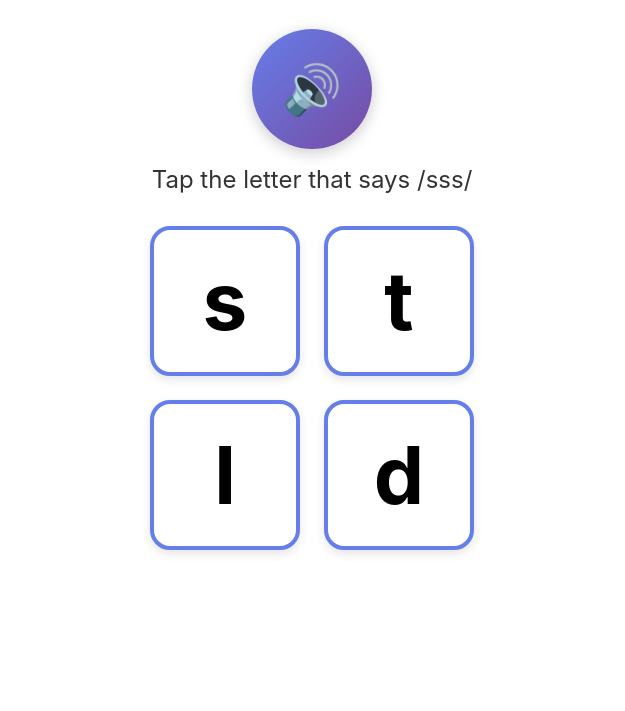
Test: SoundLetterGame › shows grading buttons when correct letter is tapped
This screenshot has width=625, height=711.
Click the button "s" at (225, 300), box left=150, top=226, right=300, bottom=376
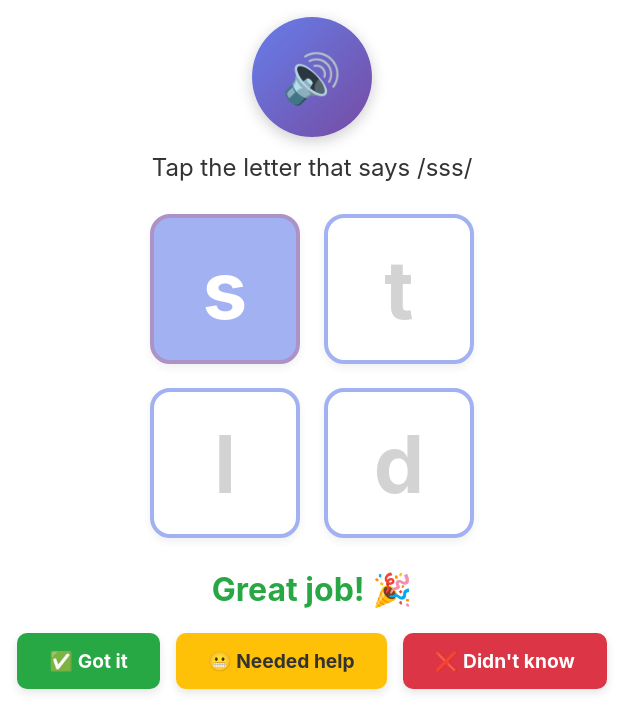
Check: the button "✅ Got it" is shown, box left=17, top=633, right=160, bottom=689
Check: the button "😬 Needed help" is shown, box left=176, top=633, right=386, bottom=689
Check: the button "❌ Didn't know" is shown, box left=403, top=633, right=607, bottom=689
